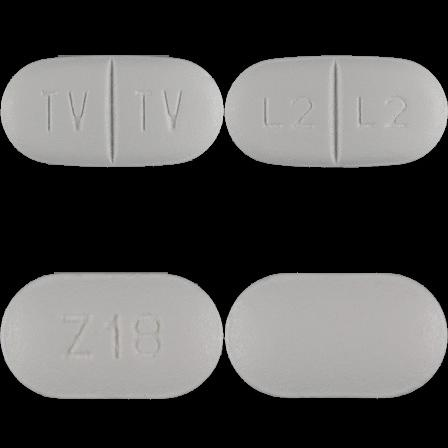43063-346: (0, 0, 224, 224)
